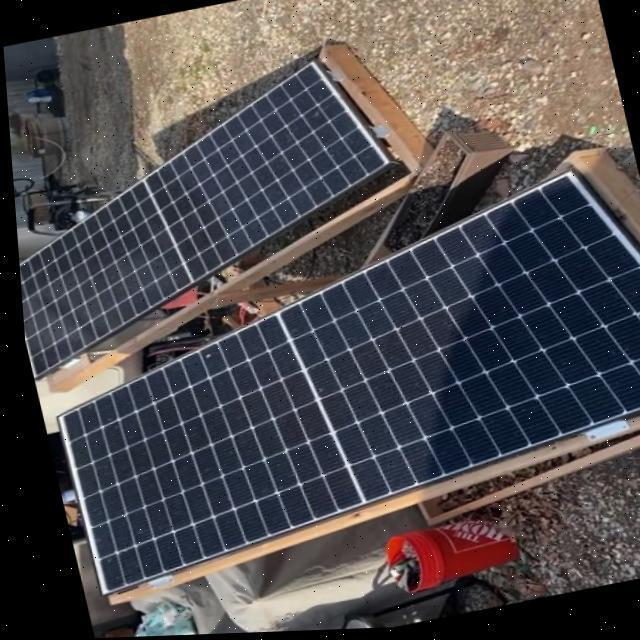Normal Solar Panel: (14, 165, 640, 597), (4, 51, 418, 377)
